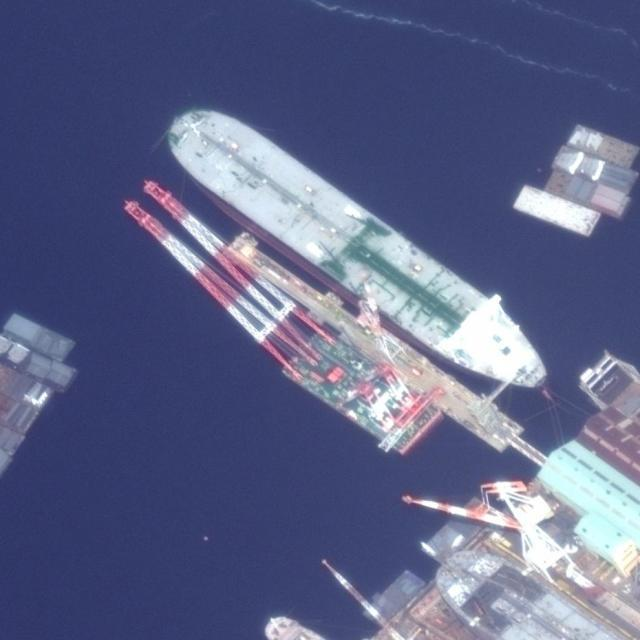Dock: (222, 224, 557, 479)
Oil Tanker: (145, 78, 575, 428)
